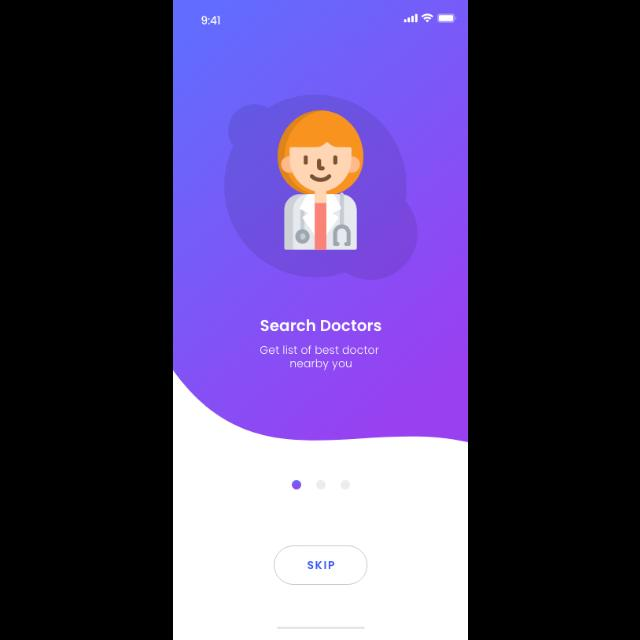image: (276, 110, 364, 250)
pageindicator: (291, 480, 351, 490)
text: (259, 344, 379, 372), (260, 319, 382, 333)
textbutton: (273, 546, 367, 584)
uppertaskbar: (200, 13, 456, 24)
